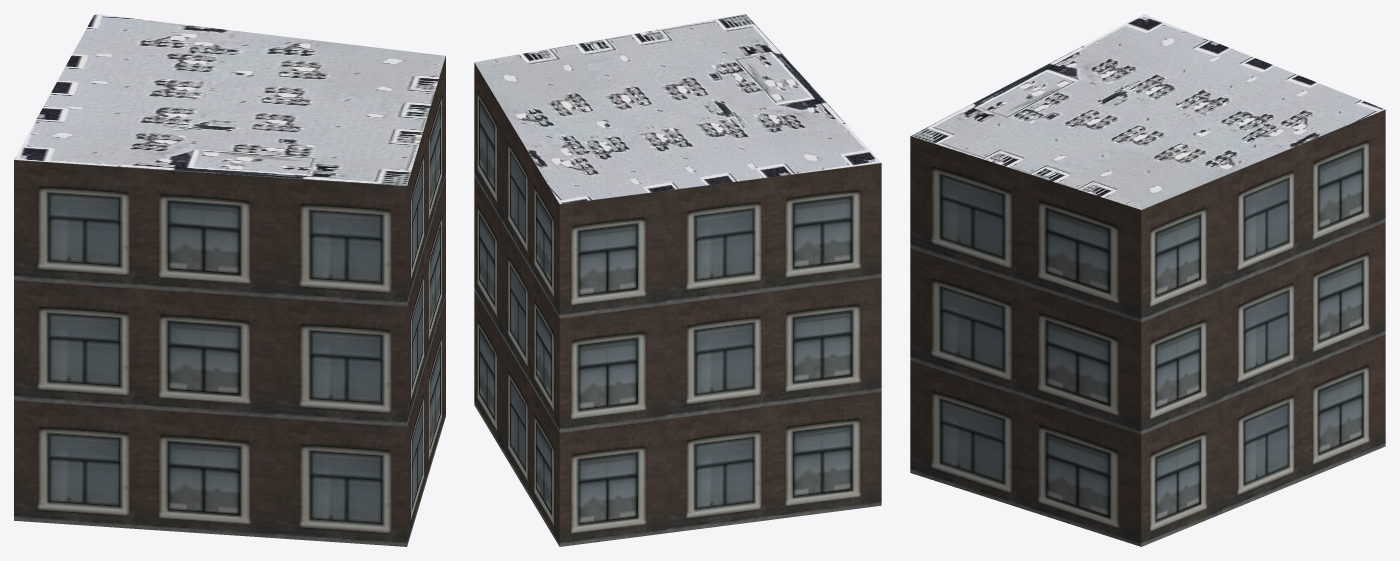
Rendered from ResTex__1427.fbx.
3 views of the same model, side by side, from view 1: azimuth 30°, elevation 25°; view 2: azimuth 150°, elevation 25°; view 3: azimuth 270°, elevation 25° (orthographic). The views are drawn at different scales.
Visible parts, largest first — view 1: CityEngineMaterial_16_m, CityEngineMaterial_15_m; view 2: CityEngineMaterial_16_m, CityEngineMaterial_15_m; view 3: CityEngineMaterial_16_m, CityEngineMaterial_15_m.
Part boxes in pixels (box(x1,y1,x2,y2)): CityEngineMaterial_16_m: box(14, 56, 445, 546); CityEngineMaterial_15_m: box(14, 14, 445, 185); CityEngineMaterial_16_m: box(474, 63, 881, 546); CityEngineMaterial_15_m: box(474, 14, 881, 204); CityEngineMaterial_16_m: box(910, 109, 1385, 546); CityEngineMaterial_15_m: box(911, 14, 1384, 209).
Size of the model in its own units: 11.23 by 9 by 11.5.
Materials: 2 (2 with a texture image).
